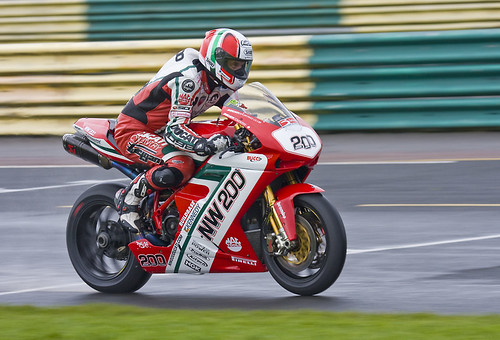helmet: (194, 17, 250, 89)
